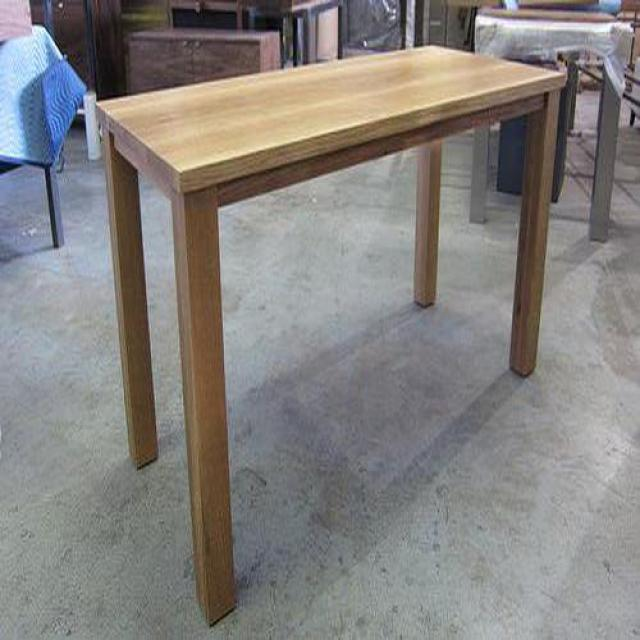table: (96, 46, 568, 628)
